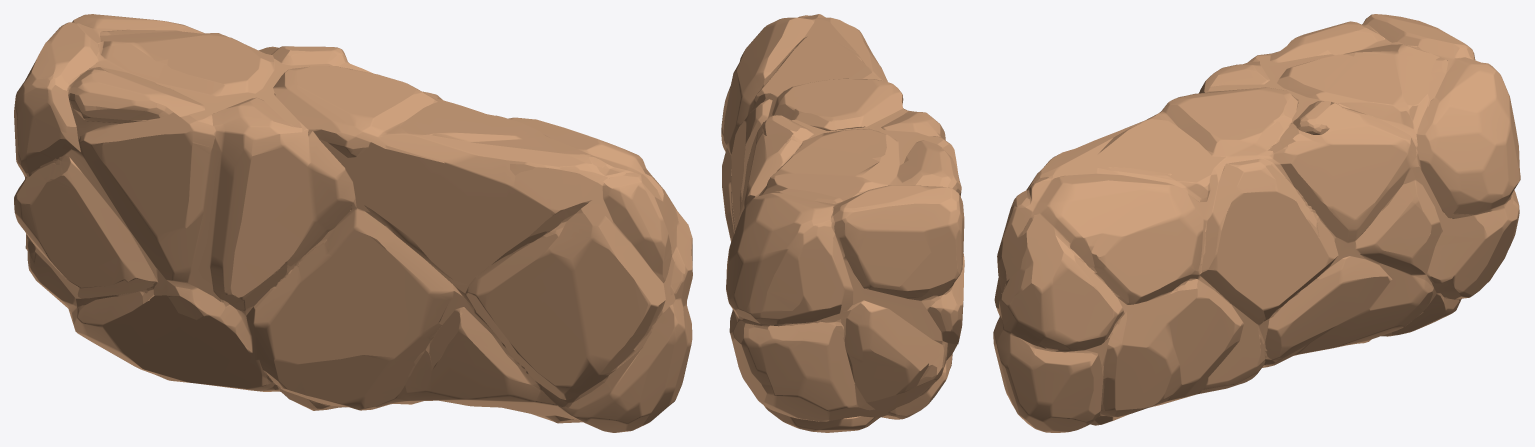
3 renders of one model, left to right at view 1: azimuth 30°, elevation 25°; view 2: azimuth 150°, elevation 25°; view 3: azimuth 270°, elevation 25°, orthographic. The views are drawn at different scales.
Visible parts, largest first — view 1: Mesh_65_LOD0; view 2: Mesh_65_LOD0; view 3: Mesh_65_LOD0.
Part boxes in pixels (x1=…): Mesh_65_LOD0: x1=14, y1=14, x2=692, y2=432; Mesh_65_LOD0: x1=721, y1=14, x2=964, y2=432; Mesh_65_LOD0: x1=993, y1=14, x2=1520, y2=432.
Size of what is drawn, in the model's own units: 3388 by 2177 by 3927.
